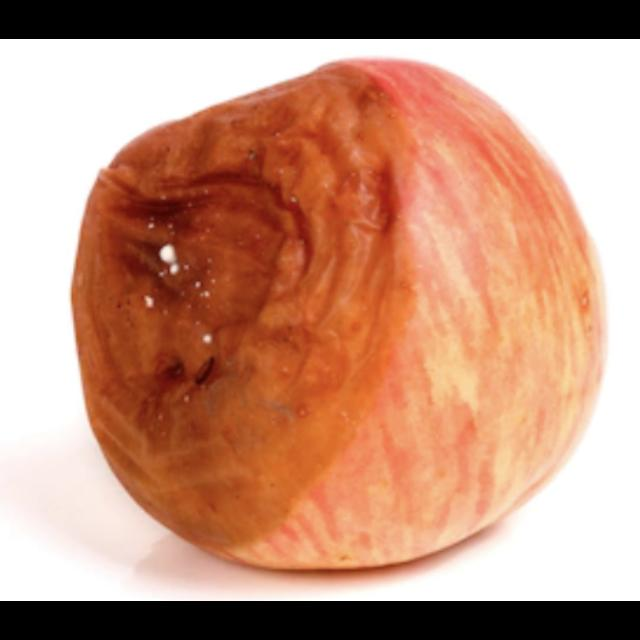Apel Segar: (266, 56, 612, 587)
Apel Tidak Segar: (70, 55, 449, 566)
